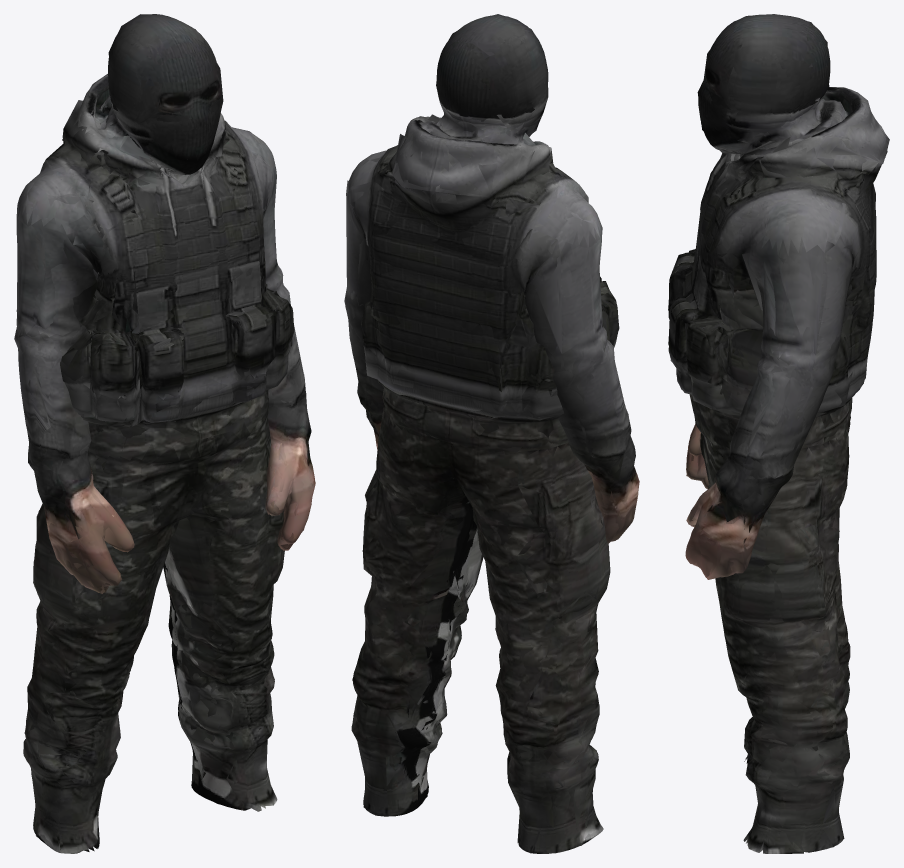
Rendered from ai_militant.glb.
3 renders of one model, left to right at view 1: azimuth 30°, elevation 25°; view 2: azimuth 150°, elevation 25°; view 3: azimuth 270°, elevation 25°, orthographic. The views are drawn at different scales.
Parts seen in each view (by area): view 1: ai_spine_militant, LOD_ai_spine_militant, ai_kneeR_militant, ai_kneeL_militant, ai_head_militant, ai_legR_militant, ai_legL_militant, LOD_ai_kneeL_militant, ai_hips_militant, LOD_ai_kneeR_militant, LOD_ai_legR_militant, LOD_ai_legL_militant (+16 smaller); view 2: ai_spine_militant, ai_legR_militant, ai_kneeR_militant, ai_head_militant, ai_kneeL_militant, LOD_ai_spine_militant, ai_legL_militant, LOD_ai_legR_militant, LOD_ai_kneeR_militant, ai_hips_militant, LOD_ai_kneeL_militant, LOD_ai_legL_militant (+13 smaller); view 3: ai_spine_militant, ai_kneeL_militant, ai_head_militant, ai_legL_militant, LOD_ai_spine_militant, LOD_ai_kneeL_militant, LOD_ai_legL_militant, ai_shoulderL_militant, ai_elbowL_militant, ai_handL_militant, LOD_ai_shoulderL_militant, LOD_ai_elbowL_militant (+9 smaller).
Part boxes in pixels (box(x1,y1,x2,y2)): ai_spine_militant: box(17, 127, 294, 400); LOD_ai_spine_militant: box(21, 120, 292, 399); ai_kneeR_militant: box(23, 605, 143, 853); ai_kneeL_militant: box(168, 589, 277, 810); ai_head_militant: box(75, 14, 222, 159); ai_legR_militant: box(33, 446, 215, 644); ai_legL_militant: box(165, 419, 284, 615); LOD_ai_kneeL_militant: box(168, 581, 276, 811); ai_hips_militant: box(64, 350, 289, 459); LOD_ai_kneeR_militant: box(23, 603, 150, 853); LOD_ai_legR_militant: box(33, 438, 214, 648); LOD_ai_legL_militant: box(163, 415, 284, 614); ai_spine_militant: box(348, 148, 618, 399); ai_legR_militant: box(447, 443, 609, 635); ai_kneeR_militant: box(495, 616, 603, 853); ai_head_militant: box(403, 15, 548, 168); ai_kneeL_militant: box(351, 581, 476, 816); LOD_ai_spine_militant: box(347, 145, 619, 398); ai_legL_militant: box(363, 414, 483, 602); LOD_ai_legR_militant: box(448, 442, 610, 642); LOD_ai_kneeR_militant: box(495, 607, 601, 853); ai_hips_militant: box(363, 344, 615, 455); LOD_ai_kneeL_militant: box(352, 583, 473, 816); LOD_ai_legL_militant: box(362, 407, 482, 606); ai_spine_militant: box(668, 153, 886, 393); ai_kneeL_militant: box(723, 617, 849, 853); ai_head_militant: box(698, 14, 877, 156); ai_legL_militant: box(695, 418, 849, 644); LOD_ai_spine_militant: box(668, 151, 887, 393); LOD_ai_kneeL_militant: box(719, 603, 849, 853); LOD_ai_legL_militant: box(694, 417, 848, 640); ai_shoulderL_militant: box(733, 235, 857, 361); ai_elbowL_militant: box(719, 339, 839, 480); ai_handL_militant: box(685, 466, 792, 577); LOD_ai_shoulderL_militant: box(738, 237, 858, 354); LOD_ai_elbowL_militant: box(723, 337, 840, 482).
Size of the model in its own units: 0.6678 by 1.89 by 0.485.
Materials: 1 (1 with a texture image).
